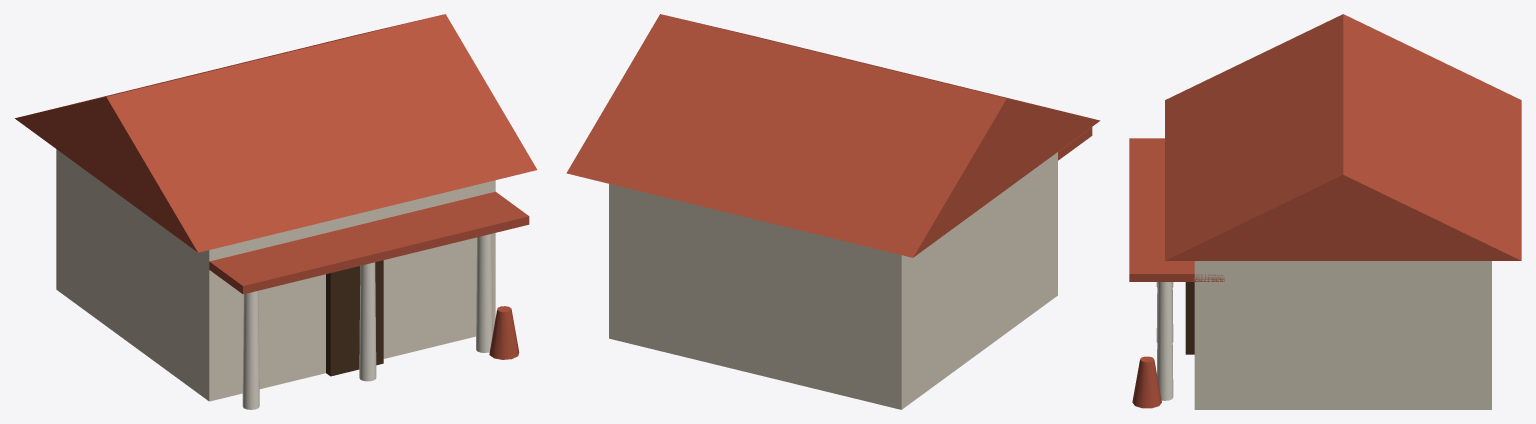
Rendered from house.glb.
The picture shows the model from 3 angles, left to right: view 1: azimuth 30°, elevation 25°; view 2: azimuth 150°, elevation 25°; view 3: azimuth 270°, elevation 25°; orthographic projection. The views are drawn at different scales.
Parts seen in each view (by area): view 1: House; view 2: House; view 3: House.
Boxes of the visible parts, <box> form: House: <box>15,14,537,409</box>; House: <box>566,14,1100,409</box>; House: <box>1129,14,1521,409</box>.
Size of the model in its own units: 6.4 by 4.6 by 6.6.
